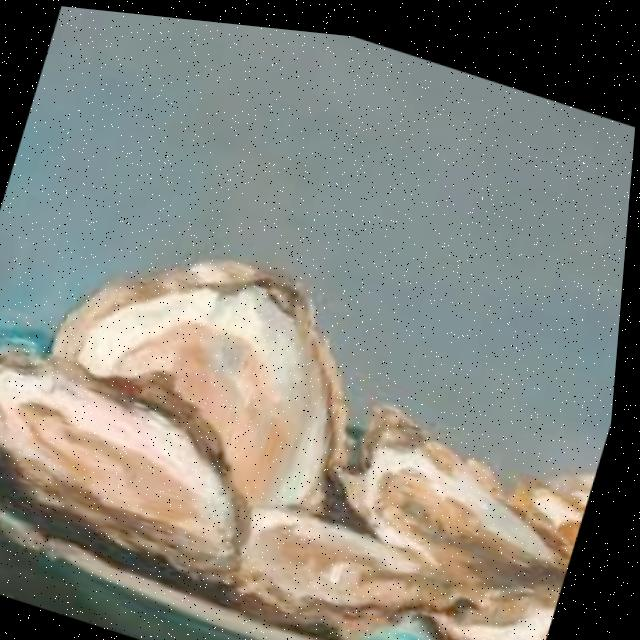Oyster-Open: (16, 206, 401, 544), (0, 325, 292, 595), (314, 388, 600, 606), (211, 486, 517, 640)
